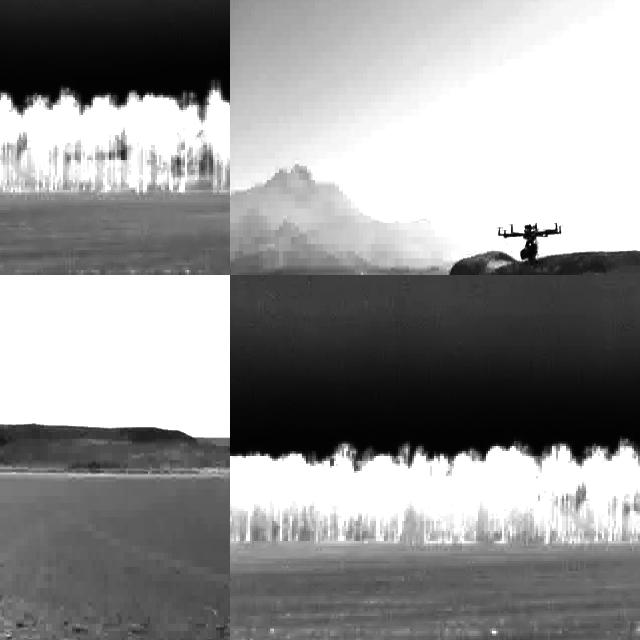1: (527, 275, 563, 283)
drone: (497, 220, 565, 261)
